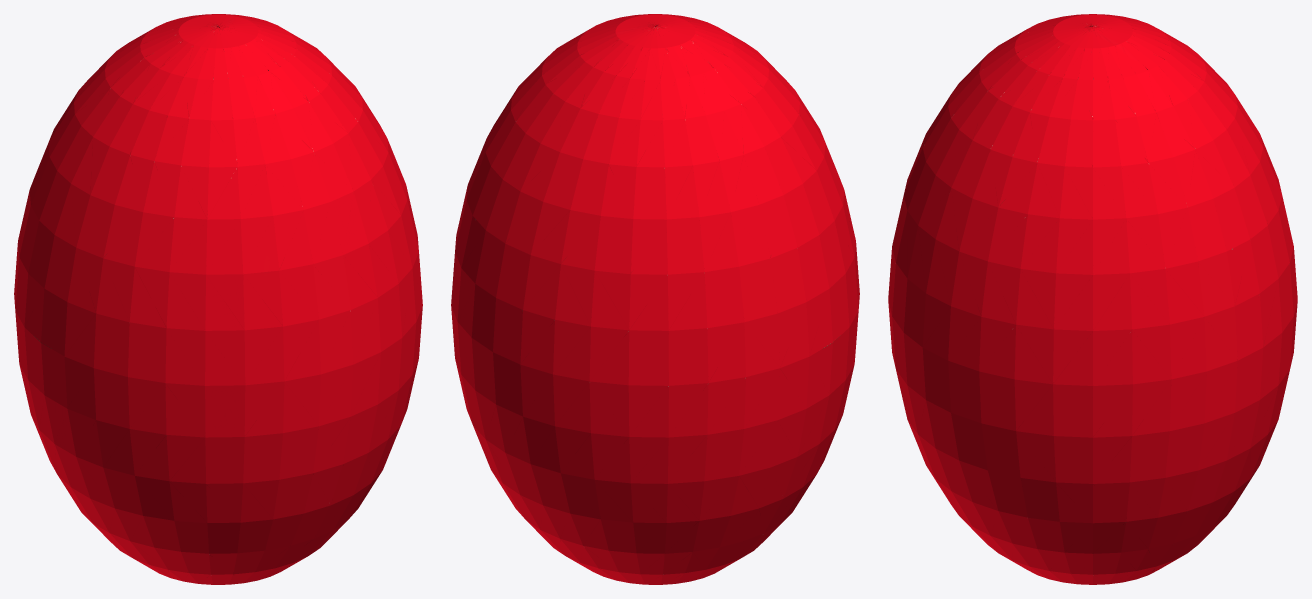
Rendered from keystone_red.obj.
3 views of the same model, side by side, from view 1: azimuth 30°, elevation 25°; view 2: azimuth 150°, elevation 25°; view 3: azimuth 270°, elevation 25° (orthographic).
Bounding box in the file's own units: 1 × 1.47 × 1.
